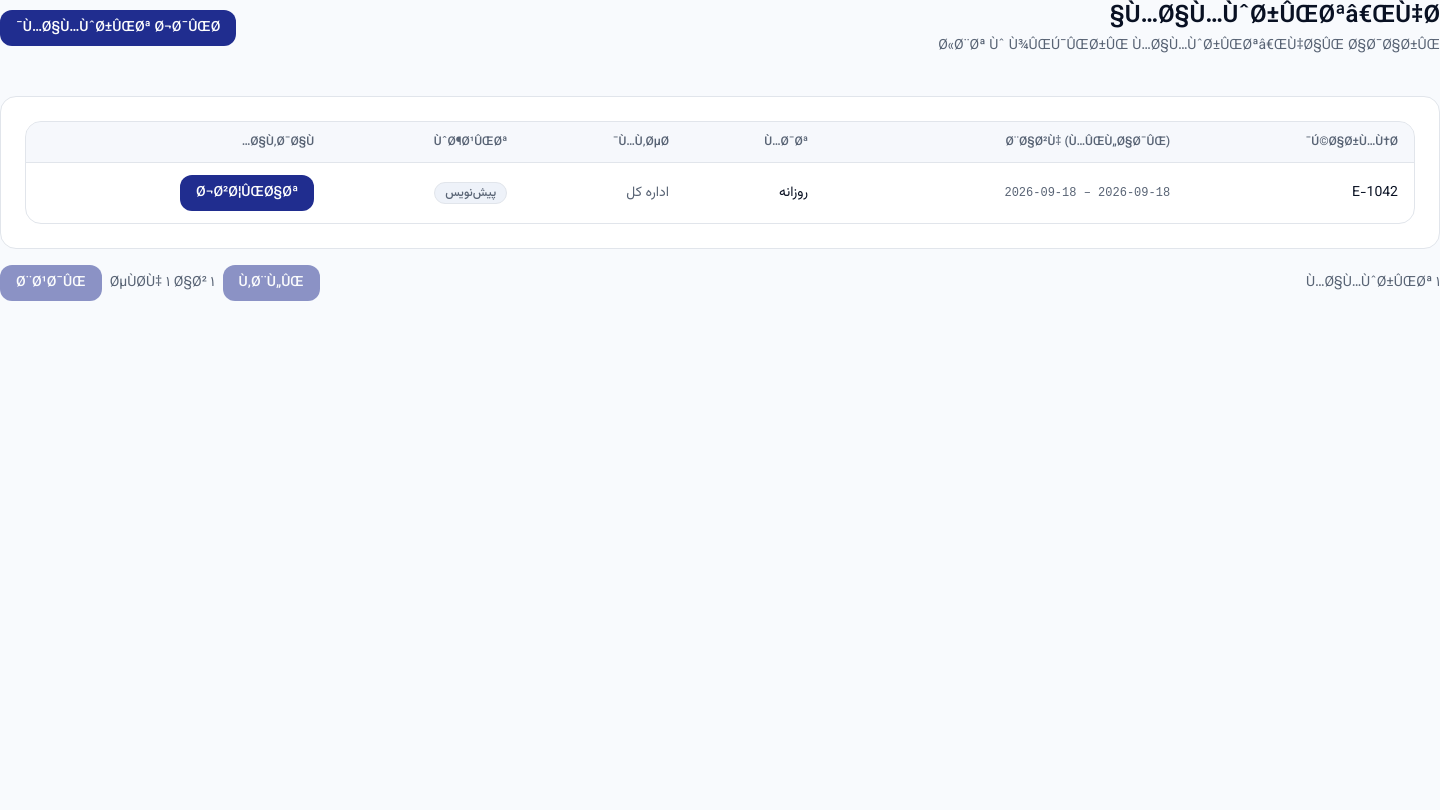
Test: HrMissionView › degrades a failed directory read to an empty picker rather than an error
Click the button with test id "hr-mission-create-open" at point(118, 28), box [0,10,236,46]
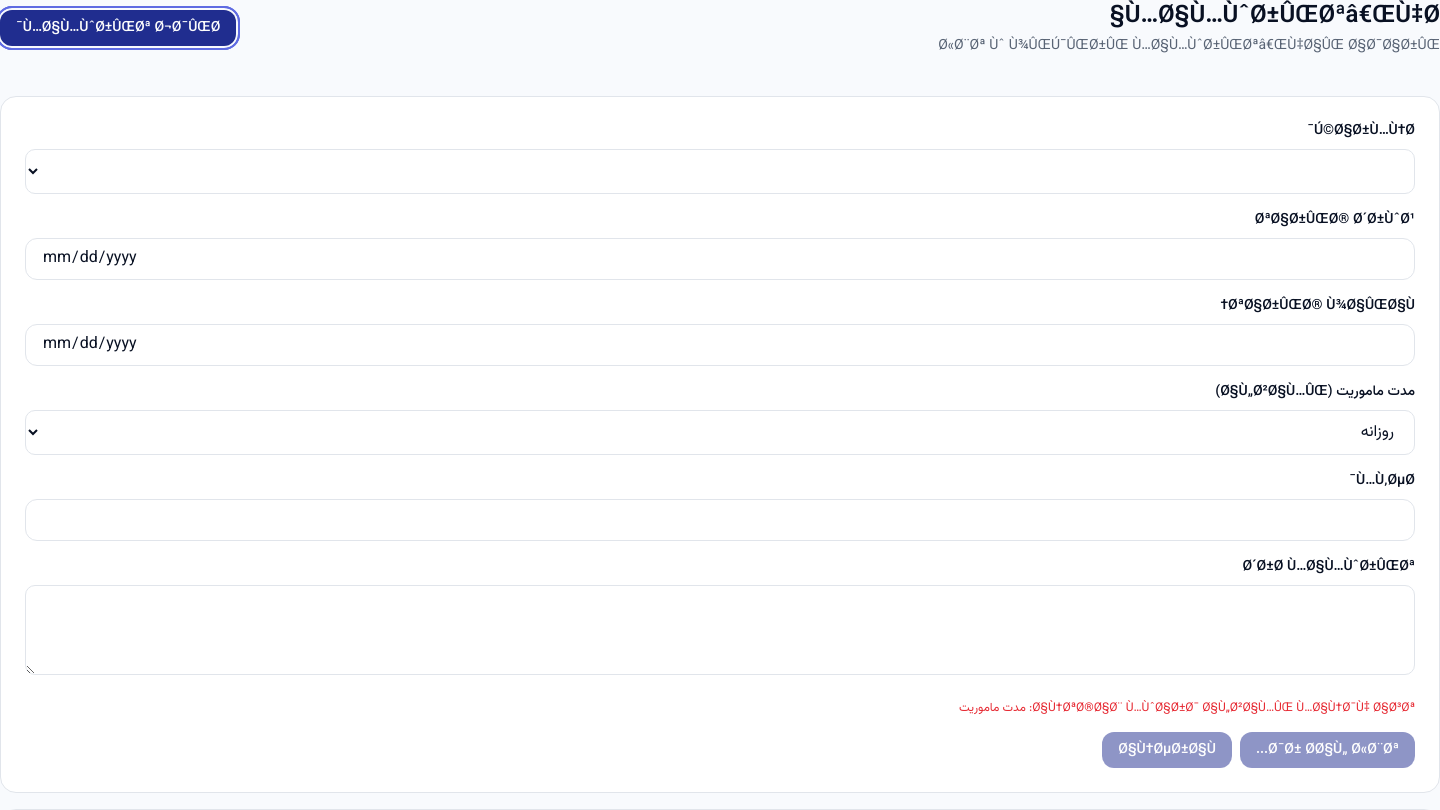
Expected: the button with test id "hr-mission-form-submit" is disabled, [1240,732,1415,768]
